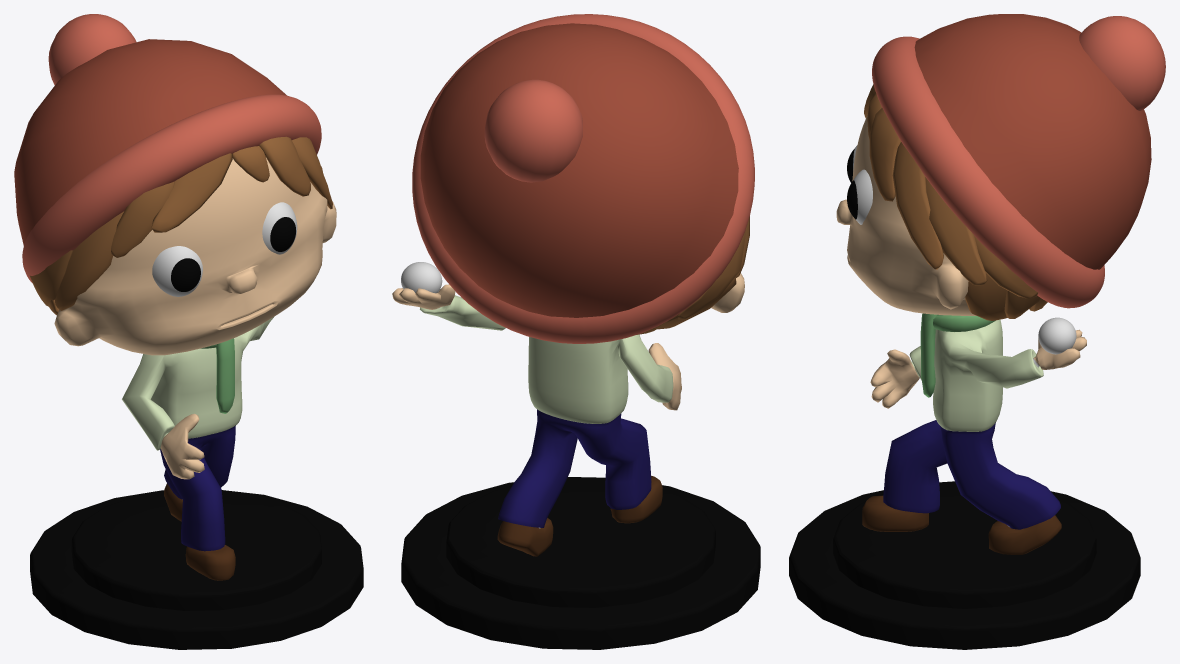
The model's file is kid-03-2015.fbx.
3 renders of one model, left to right at view 1: azimuth 30°, elevation 25°; view 2: azimuth 150°, elevation 25°; view 3: azimuth 270°, elevation 25°, orthographic. The views are drawn at different scales.
Visible parts, largest first — view 1: pCylinder14, polySurface4, polySurface6, polySurface1, polySurface7, polySurface5, polySurface8, polySurface13, polySurface11, polySurface9, polySurface2, eye (+6 smaller); view 2: polySurface6, pCylinder14, polySurface1, polySurface7, polySurface5, polySurface20, pSphere12, polySurface4; view 3: pCylinder14, polySurface6, polySurface1, polySurface7, polySurface4, polySurface5, polySurface10, polySurface14, polySurface9, polySurface17, polySurface16, polySurface2 (+4 smaller).
Boxes of the visible parts, left/top/right/bottom form: pCylinder14: left=30, top=490, right=363, bottom=649; polySurface4: left=54, top=158, right=336, bottom=355; polySurface6: left=14, top=39, right=286, bottom=245; polySurface1: left=122, top=316, right=274, bottom=580; polySurface7: left=22, top=94, right=321, bottom=283; polySurface5: left=48, top=14, right=136, bottom=85; polySurface8: left=151, top=153, right=232, bottom=232; polySurface13: left=54, top=211, right=123, bottom=310; polySurface11: left=111, top=181, right=174, bottom=257; polySurface9: left=259, top=136, right=310, bottom=196; polySurface2: left=216, top=338, right=234, bottom=413; eye: left=152, top=246, right=202, bottom=296; polySurface6: left=420, top=23, right=738, bottom=317; pCylinder14: left=401, top=477, right=760, bottom=649; polySurface1: left=392, top=284, right=681, bottom=556; polySurface7: left=412, top=14, right=754, bottom=343; polySurface5: left=484, top=79, right=582, bottom=182; polySurface20: left=678, top=230, right=745, bottom=319; pSphere12: left=401, top=262, right=442, bottom=293; polySurface4: left=711, top=273, right=744, bottom=312; pCylinder14: left=789, top=481, right=1140, bottom=649; polySurface6: left=914, top=14, right=1151, bottom=269; polySurface1: left=862, top=315, right=1086, bottom=554; polySurface7: left=872, top=36, right=1104, bottom=308; polySurface4: left=836, top=115, right=976, bottom=315; polySurface5: left=1079, top=16, right=1165, bottom=110; polySurface10: left=892, top=142, right=943, bottom=269; polySurface14: left=926, top=178, right=987, bottom=285; polySurface9: left=869, top=108, right=900, bottom=201; polySurface17: left=965, top=273, right=1007, bottom=320; polySurface16: left=974, top=236, right=1037, bottom=298; polySurface2: left=920, top=313, right=938, bottom=397.
Size of the model in its own units: 17.11 by 27.84 by 17.61.
